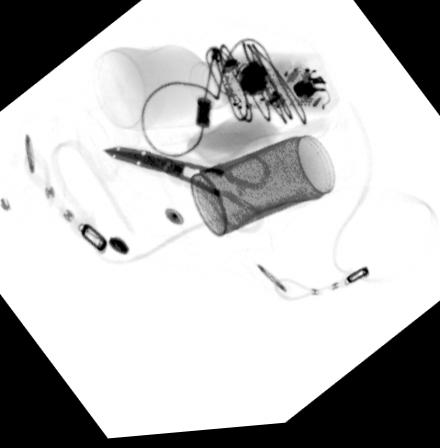Scissors: (102, 148, 269, 236)
